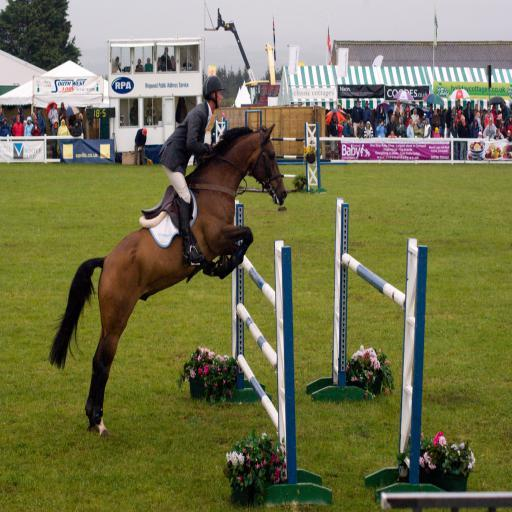Horse: (49, 124, 288, 434)
